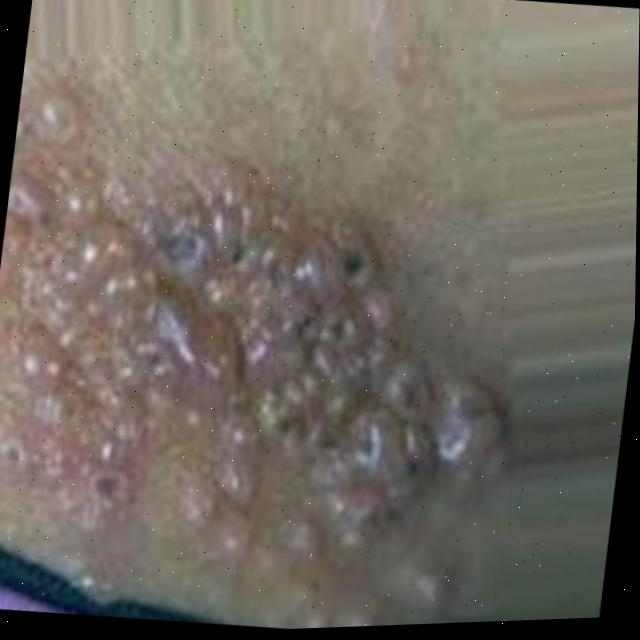Shingles: (0, 62, 548, 640)
